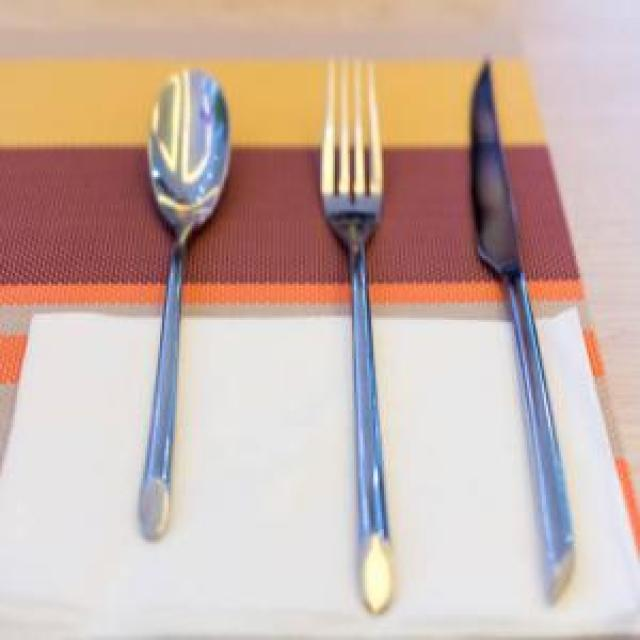knife: (461, 51, 579, 608)
